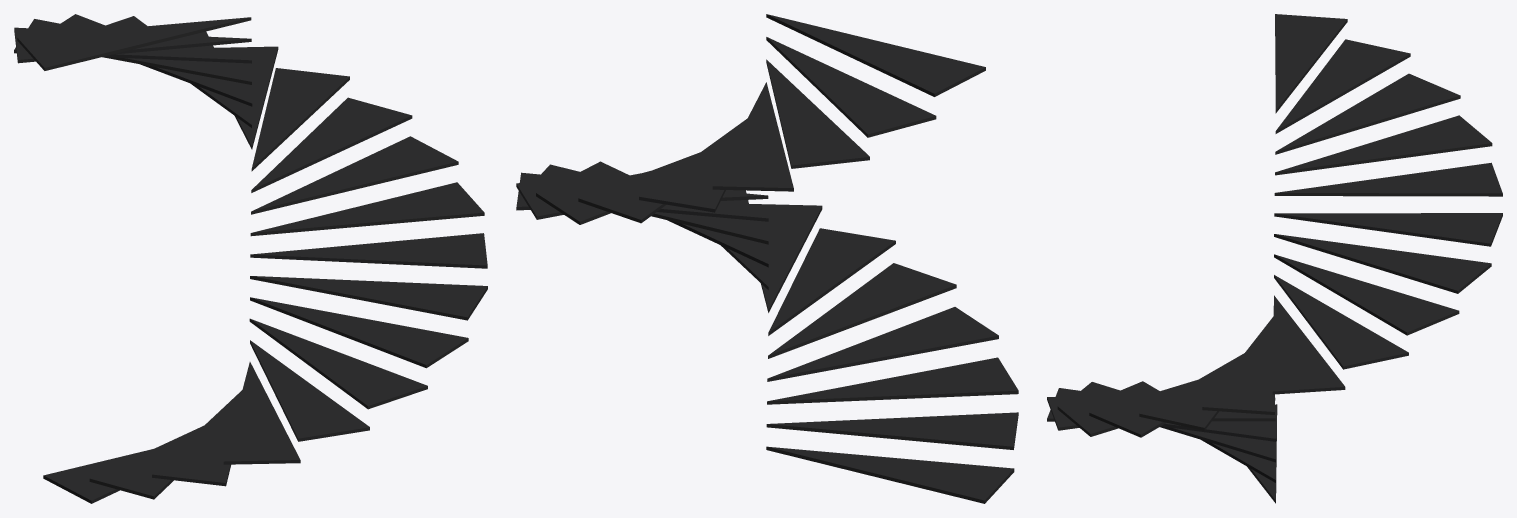
The model's file is spiralFloatingStairs.glb.
3 views of the same model, side by side, from view 1: azimuth 30°, elevation 25°; view 2: azimuth 150°, elevation 25°; view 3: azimuth 270°, elevation 25° (orthographic). The views are drawn at different scales.
Visible parts, largest first — view 1: Stair_spiral_floating; view 2: Stair_spiral_floating; view 3: Stair_spiral_floating.
Boxes of the visible parts, box(x1,y1,x2,y2) form: Stair_spiral_floating: box(14, 14, 487, 503); Stair_spiral_floating: box(516, 14, 1018, 503); Stair_spiral_floating: box(1047, 14, 1502, 503).
Size of what is drawn, in the model's own units: 4.02 by 3.83 by 4.02.
1 material, 1 textured.
